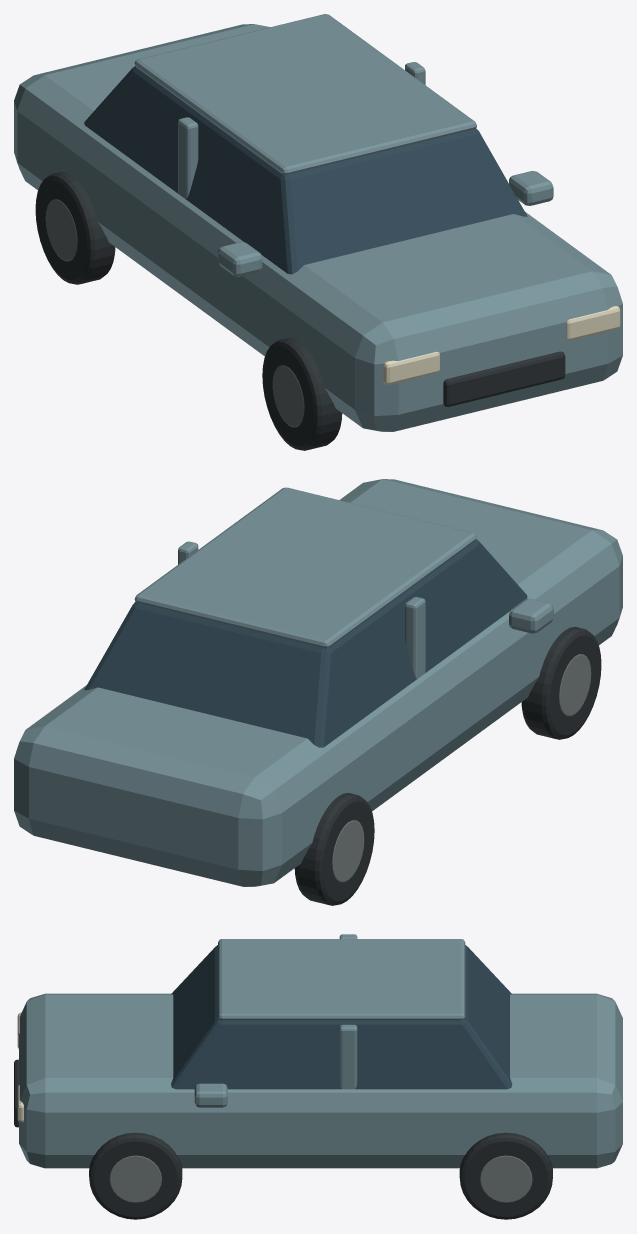
The model's file is car-sculpted-extreme.glb.
3 renders of one model, top to bottom at view 1: azimuth 30°, elevation 25°; view 2: azimuth 150°, elevation 25°; view 3: azimuth 270°, elevation 25°, orthographic. The views are drawn at different scales.
Visible parts, largest first — view 1: paint, glass, rubber, frame, lamp; view 2: paint, glass, rubber, frame; view 3: paint, glass, rubber, frame.
Part boxes in pixels (<box>): paint: <box>14,14,622,431</box>; glass: <box>84,66,527,274</box>; rubber: <box>35,171,565,450</box>; frame: <box>45,199,304,427</box>; lamp: <box>383,305,620,384</box>; paint: <box>14,479,622,886</box>; glass: <box>84,539,527,747</box>; rubber: <box>294,626,601,905</box>; frame: <box>332,654,591,882</box>; paint: <box>19,934,622,1168</box>; glass: <box>171,945,512,1089</box>; rubber: <box>14,1059,552,1219</box>; frame: <box>109,1155,532,1202</box>.
Size of the model in its own units: 2.2 by 1.51 by 4.44.
